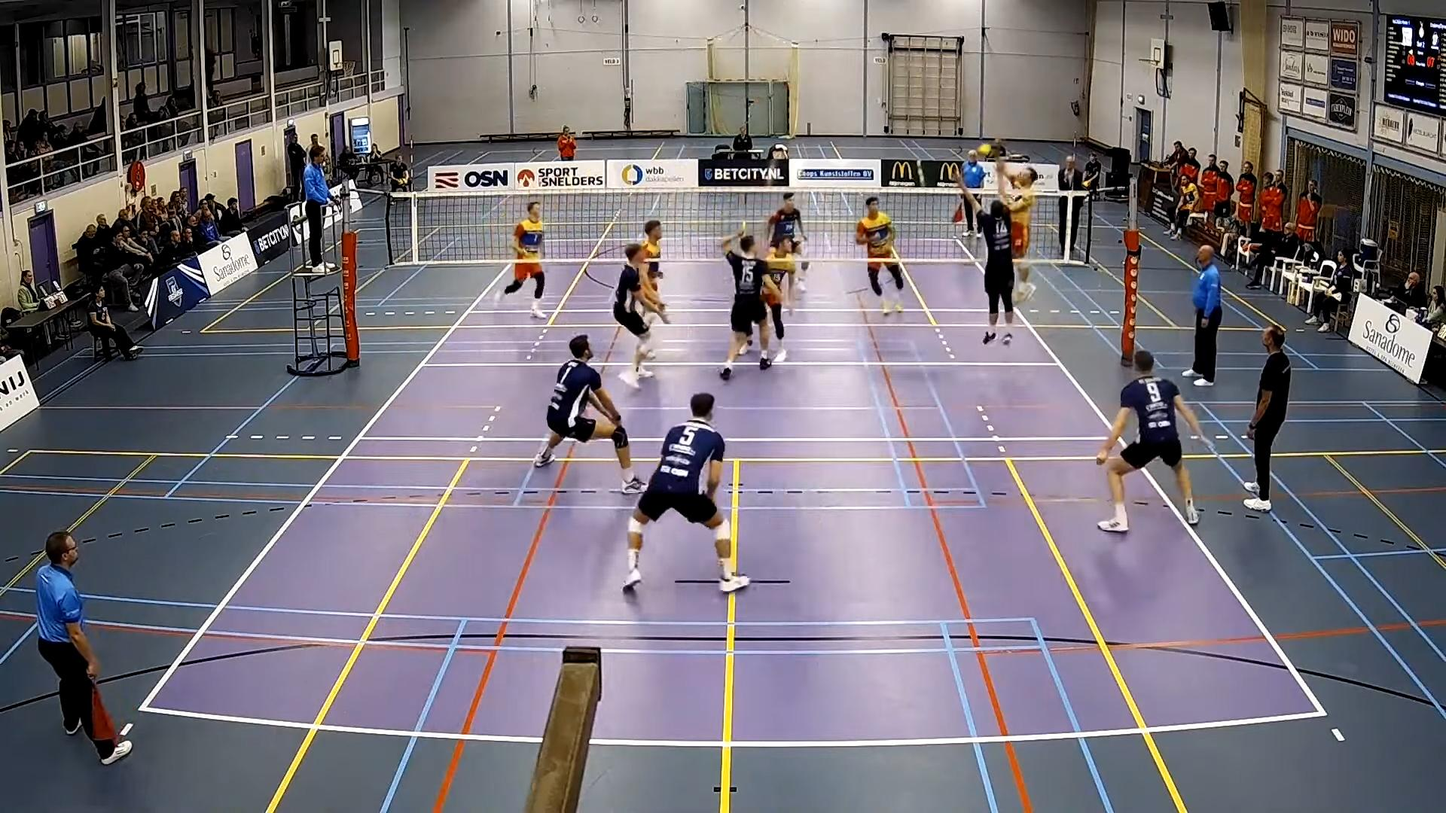Attack: (995, 161, 1043, 309)
Block: (958, 163, 1036, 348)
Player: (624, 393, 749, 592), (1096, 350, 1211, 532), (534, 335, 645, 493), (720, 229, 776, 379), (613, 243, 667, 388), (495, 201, 545, 318), (856, 196, 903, 315), (763, 236, 801, 361), (768, 192, 806, 258), (642, 219, 663, 299)
ball: (968, 144, 996, 158)
